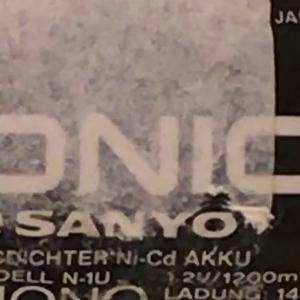NI-CD: (109, 242, 185, 267)
